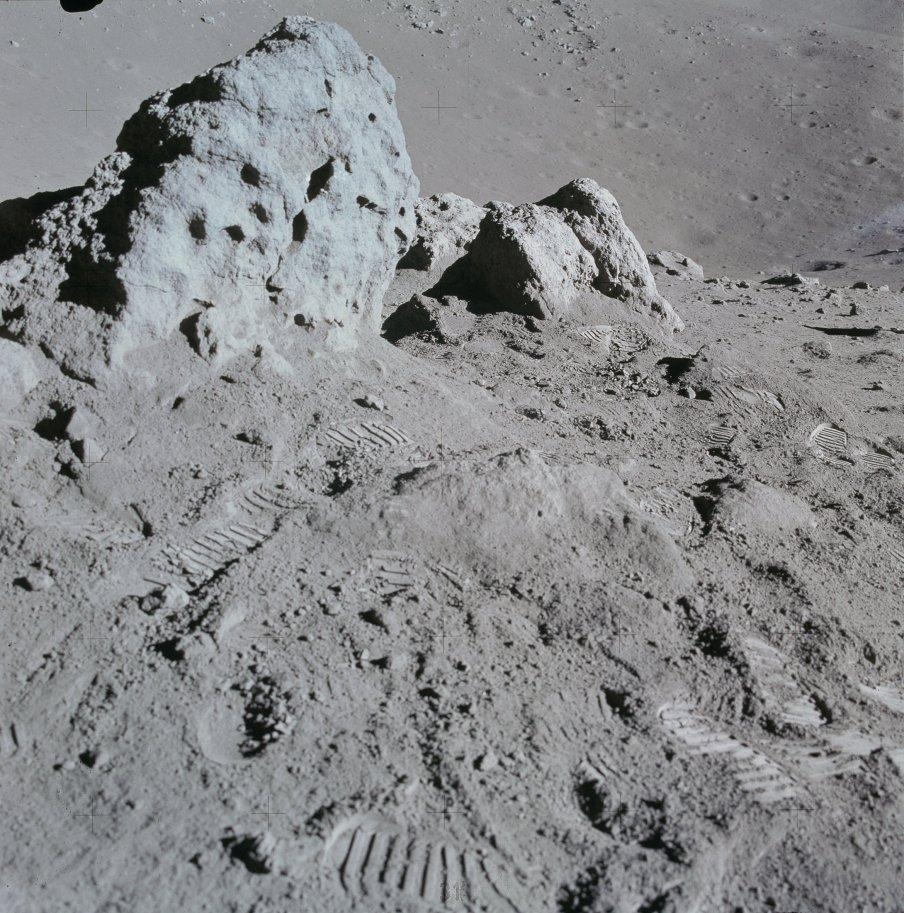rock: (2, 18, 419, 379), (469, 178, 683, 332)
